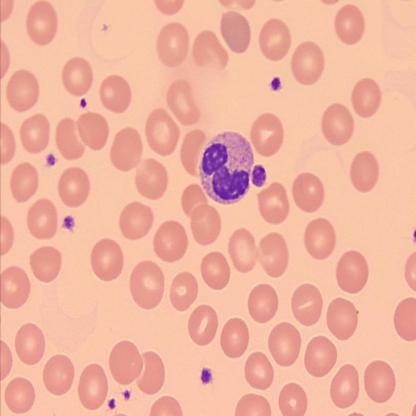Segmented neutrophil: (197, 129, 268, 206)
